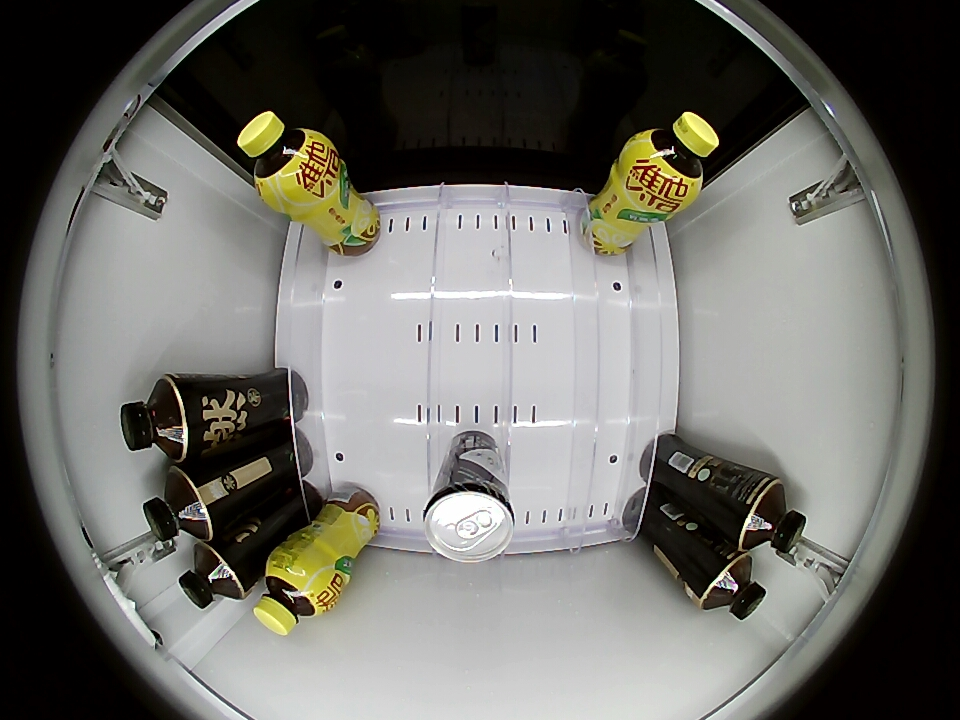qingdaowangzi-1: (423, 474, 515, 563)
rancha-1: (120, 376, 191, 463), (737, 477, 807, 556), (143, 466, 212, 546), (697, 551, 768, 621), (178, 542, 248, 610)
weitaningmeng-bottle: (627, 111, 719, 204), (238, 110, 329, 204), (253, 549, 337, 636)
